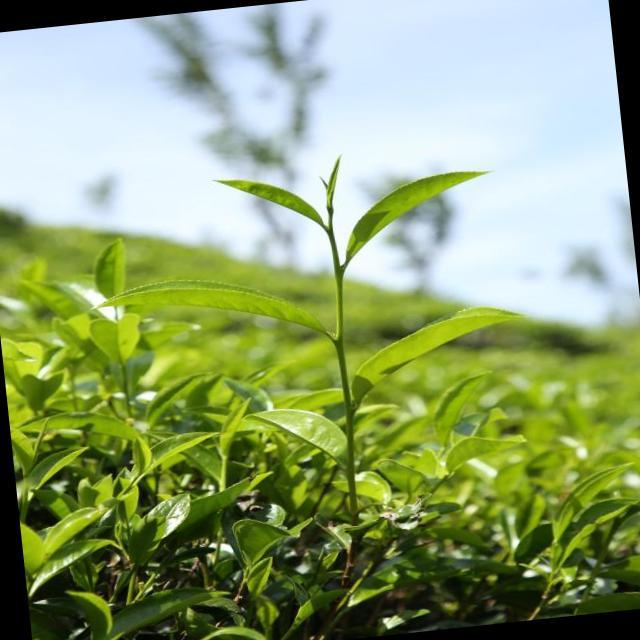Stem: (326, 229, 334, 238)
